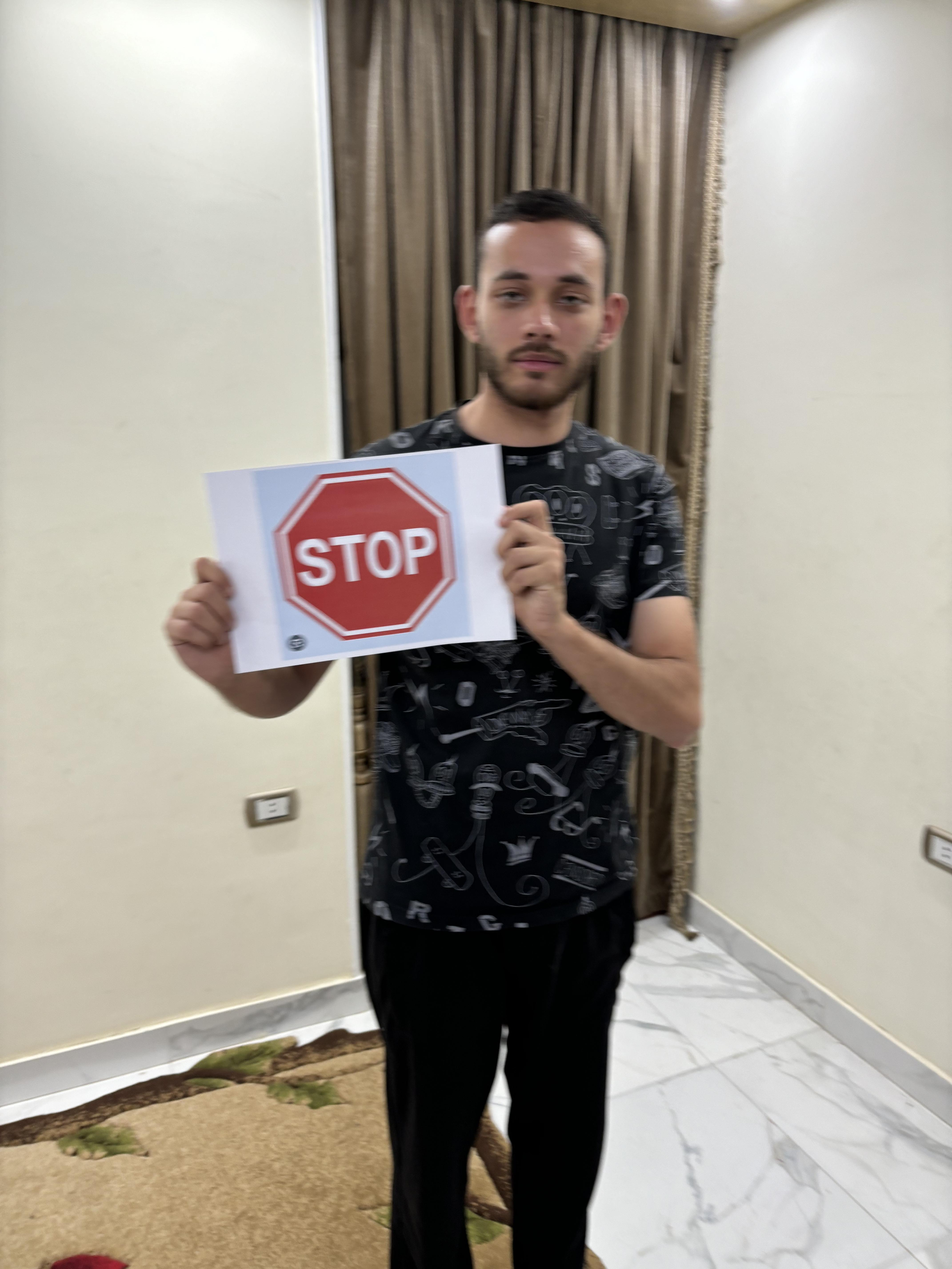Stop: (269, 467, 465, 645)
